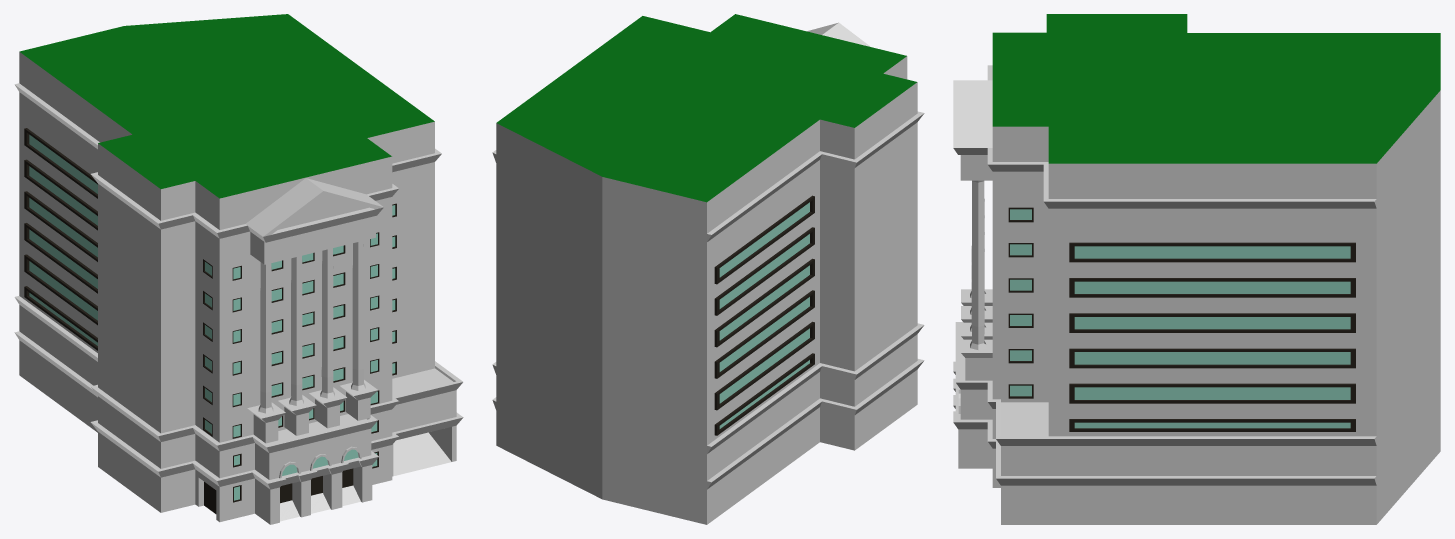
File: Enrique Razon Sports Center.fbx
The picture shows the model from 3 angles, left to right: view 1: azimuth 30°, elevation 25°; view 2: azimuth 150°, elevation 25°; view 3: azimuth 270°, elevation 25°; orthographic projection. The views are drawn at different scales.
Parts seen in each view (by area): view 1: Enrique Razon Sports Center; view 2: Enrique Razon Sports Center; view 3: Enrique Razon Sports Center.
Boxes of the visible parts, x1=… form: Enrique Razon Sports Center: x1=14, y1=14, x2=463, y2=524; Enrique Razon Sports Center: x1=492, y1=14, x2=924, y2=524; Enrique Razon Sports Center: x1=953, y1=14, x2=1440, y2=524.
Size of the model in its own units: 117 by 127 by 155.
